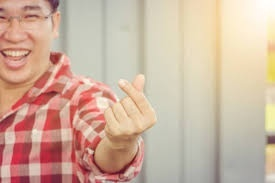oneheart: (99, 72, 165, 138)
